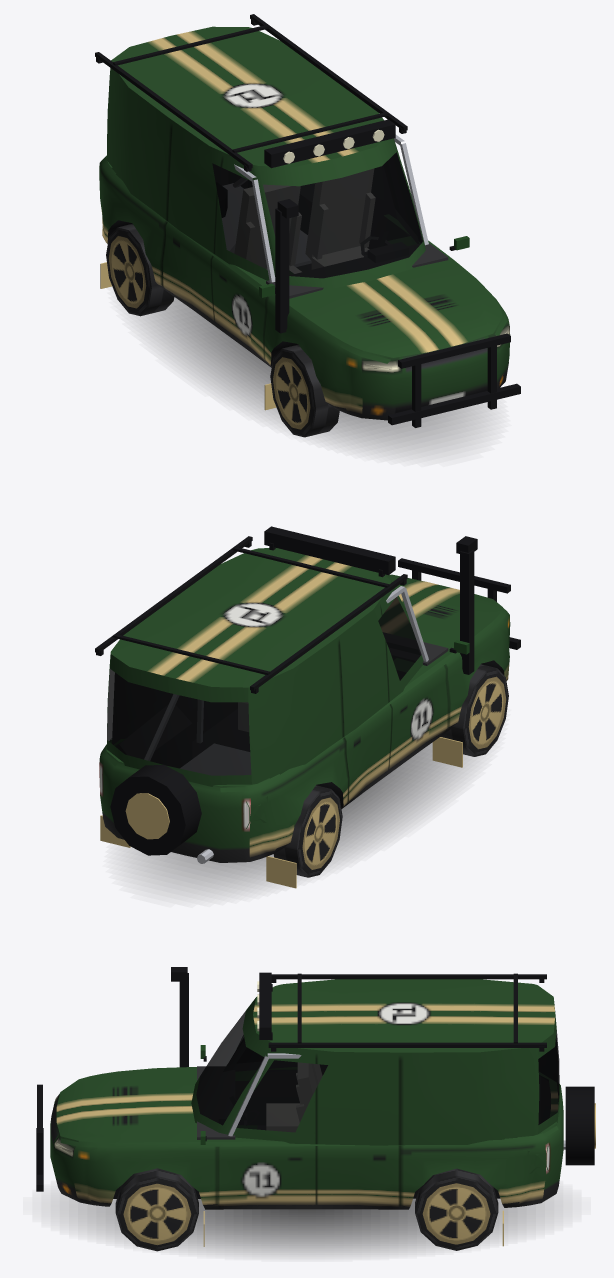
The model's file is lajedo.glb.
The picture shows the model from 3 angles, top to bottom: view 1: azimuth 30°, elevation 25°; view 2: azimuth 150°, elevation 25°; view 3: azimuth 270°, elevation 25°; orthographic projection. The views are drawn at different scales.
Parts seen in each view (by area): view 1: Carroceria, Interior, Capo_malha, Sombra, Porta_TD_malha, Porta_D_malha, Roda_DD, Roda_TD, Porta_E_malha; view 2: Carroceria, Tampa_E_malha, Interior, Tampa_D_malha, Sombra, Porta_TD_malha, Porta_D_malha, Capo_malha, Roda_TD, Roda_DD; view 3: Carroceria, Sombra, Porta_TE_malha, Porta_E_malha, Capo_malha, Interior, Roda_DE, Roda_TE, Tampa_E_malha, Tampa_D_malha.
Part boxes in pixels (x1,y1,x2,y2): Carroceria: (95, 14, 520, 427); Interior: (213, 134, 448, 298); Capo_malha: (295, 266, 506, 363); Sombra: (139, 297, 486, 452); Porta_TD_malha: (162, 120, 223, 318); Porta_D_malha: (211, 152, 275, 359); Roda_DD: (270, 344, 339, 437); Roda_TD: (106, 224, 174, 316); Porta_E_malha: (386, 138, 422, 242); Carroceria: (95, 526, 520, 888); Tampa_E_malha: (103, 654, 201, 855); Interior: (112, 586, 481, 774); Tampa_D_malha: (167, 677, 251, 846); Sombra: (127, 743, 474, 893); Porta_TD_malha: (338, 601, 392, 801); Porta_D_malha: (380, 589, 448, 766); Capo_malha: (379, 574, 506, 644); Roda_TD: (273, 785, 342, 877); Roda_DD: (440, 664, 508, 756); Carroceria: (36, 967, 565, 1246); Sombra: (59, 1195, 554, 1254); Porta_TE_malha: (316, 1050, 400, 1205); Porta_E_malha: (217, 1048, 316, 1204); Capo_malha: (60, 1069, 182, 1147); Interior: (197, 1035, 550, 1139); Roda_DE: (115, 1168, 198, 1251); Roda_TE: (415, 1168, 498, 1250); Tampa_E_malha: (537, 1016, 595, 1185); Tampa_D_malha: (539, 1001, 563, 1117).
Bounding box in the file's own units: 2.64 × 2.22 × 5.64.
Materials: 14 (5 with a texture image).
